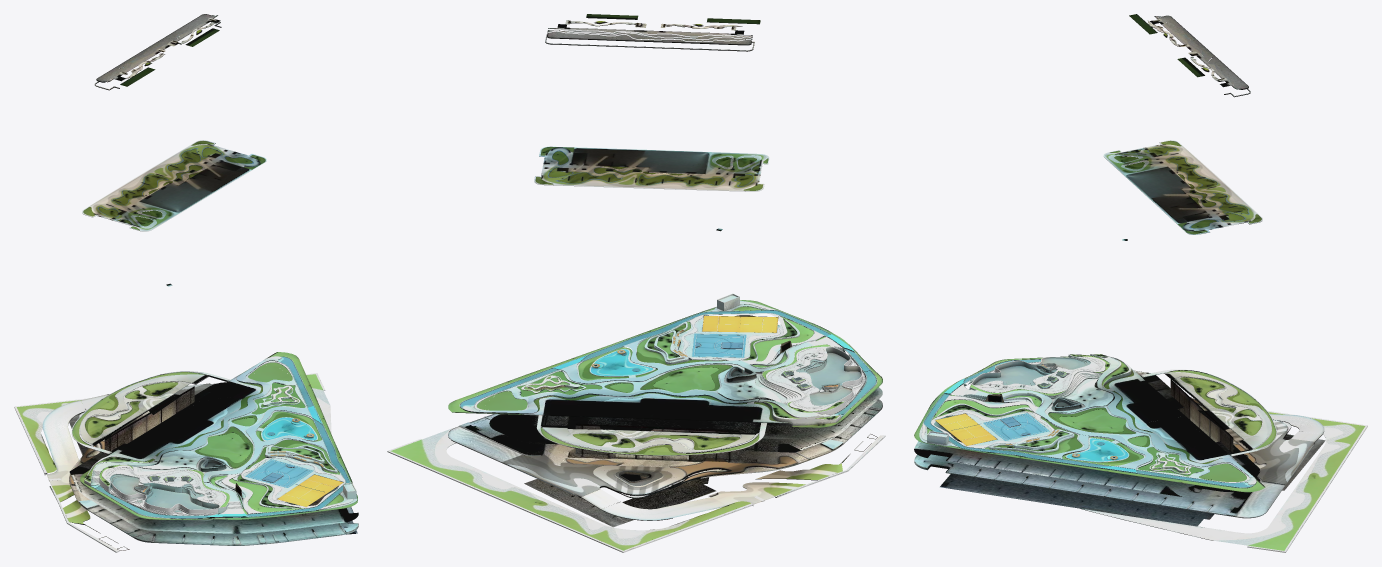
Rendered from Velos_build.glb.
3 views of the same model, side by side, from view 1: azimuth 30°, elevation 25°; view 2: azimuth 150°, elevation 25°; view 3: azimuth 270°, elevation 25° (orthographic). The views are drawn at different scales.
Visible parts, largest first — view 1: Velos_build; view 2: Velos_build; view 3: Velos_build.
Part boxes in pixels (<box>): Velos_build: <box>14,14,358,552</box>; Velos_build: <box>387,14,885,552</box>; Velos_build: <box>914,14,1367,552</box>.
Size of the model in its own units: 150 by 175 by 175.
Materials: 2 (2 with a texture image).
